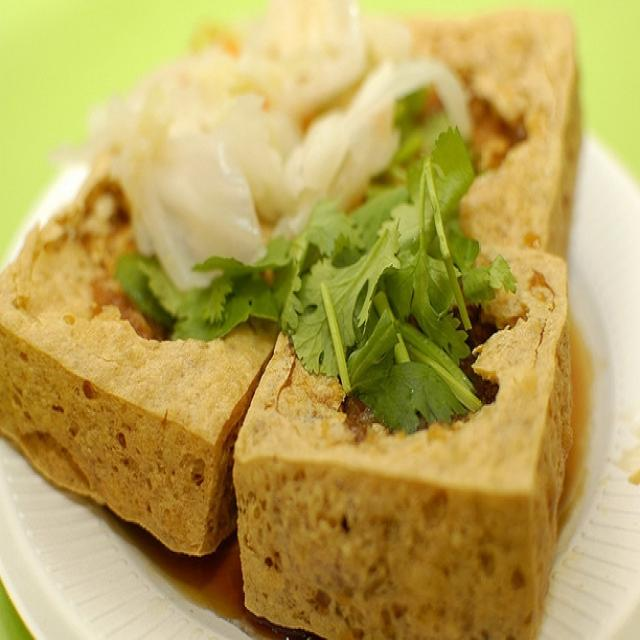豆腐料理: (3, 4, 630, 634)
